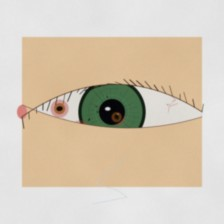foreign_body_visible: (77, 132, 99, 150)
